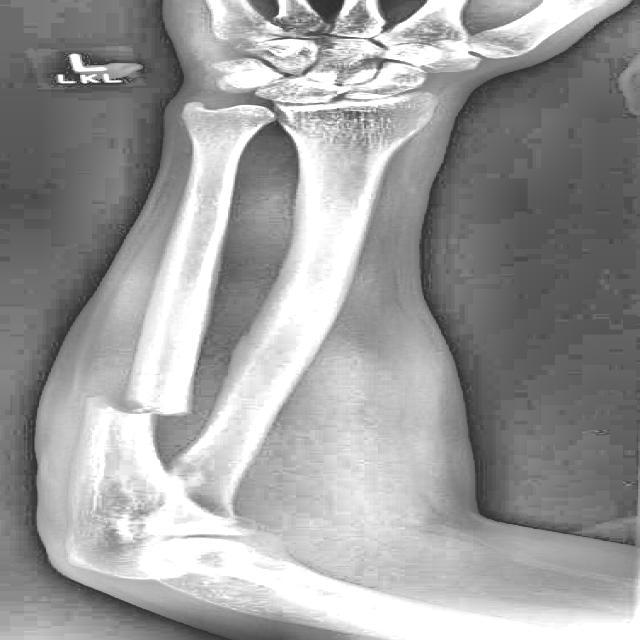fracture: (85, 390, 201, 420)
